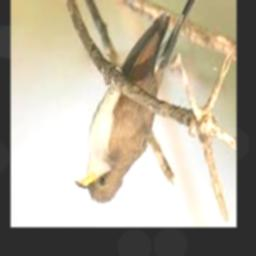Cuckoo: (75, 0, 214, 204)
